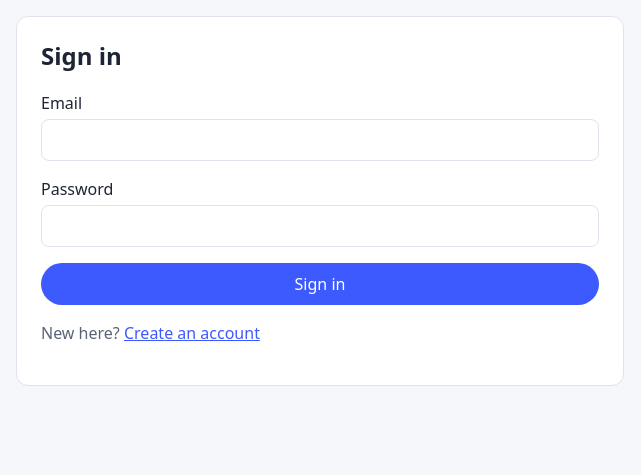
Test case: App auth gate › shows the server error on a failed sign-in
Type "player@example.com" into the field labelled "Email" at point(320, 140), box [41,119,599,161]
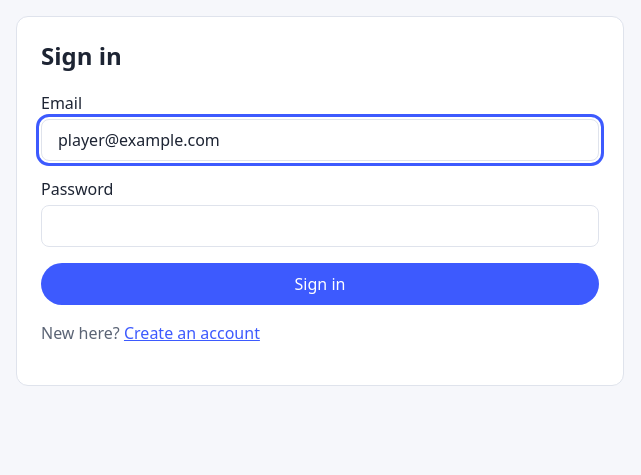
Type "wrong password" into the password field labelled "Password" at point(320, 226), box [41,205,599,247]
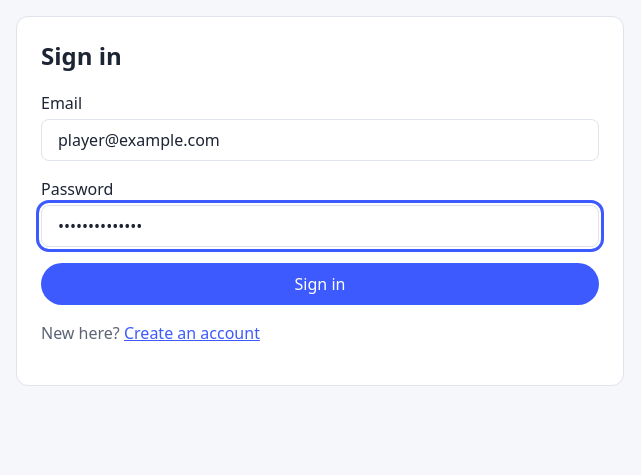
Click the button "Sign in" at point(320, 284), box [41,263,599,305]
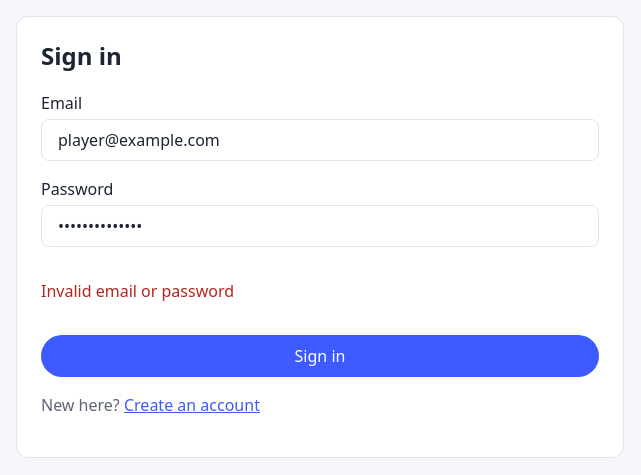
Check: the message reads "Invalid email or password", box [41,280,234,302]
